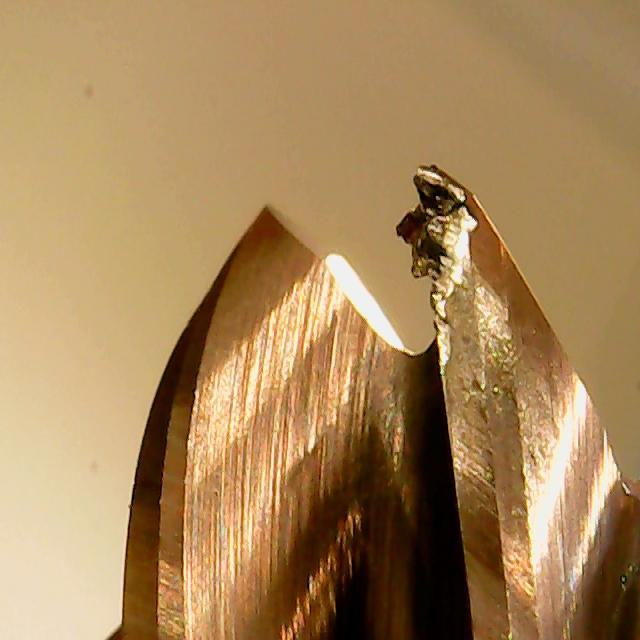Tool-wear-class-2: (386, 159, 535, 462)
